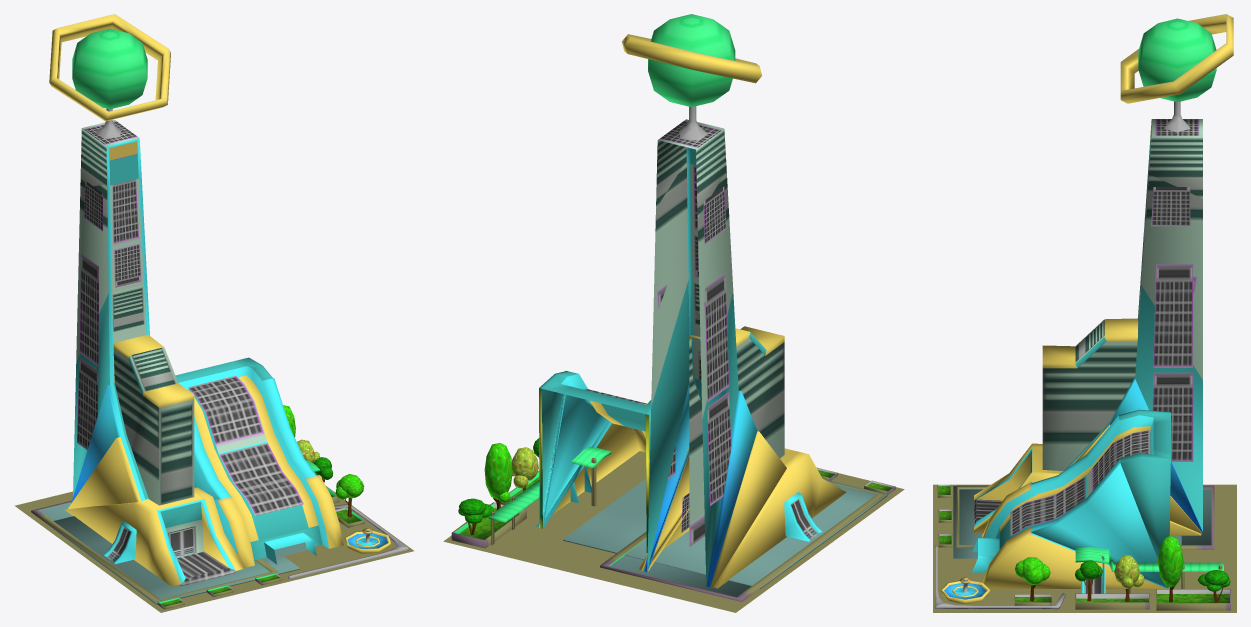
Rendered from media_LV2.fbx.
The picture shows the model from 3 angles, left to right: view 1: azimuth 30°, elevation 25°; view 2: azimuth 150°, elevation 25°; view 3: azimuth 270°, elevation 25°; orthographic projection. The views are drawn at different scales.
Visible parts, largest first — view 1: media level 2; view 2: media level 2; view 3: media level 2.
Boxes of the visible parts, left/top/right/bottom form: media level 2: left=14, top=14, right=413, bottom=612; media level 2: left=443, top=14, right=904, bottom=612; media level 2: left=933, top=14, right=1236, bottom=612.
Size of the model in its own units: 100 by 183 by 100.
